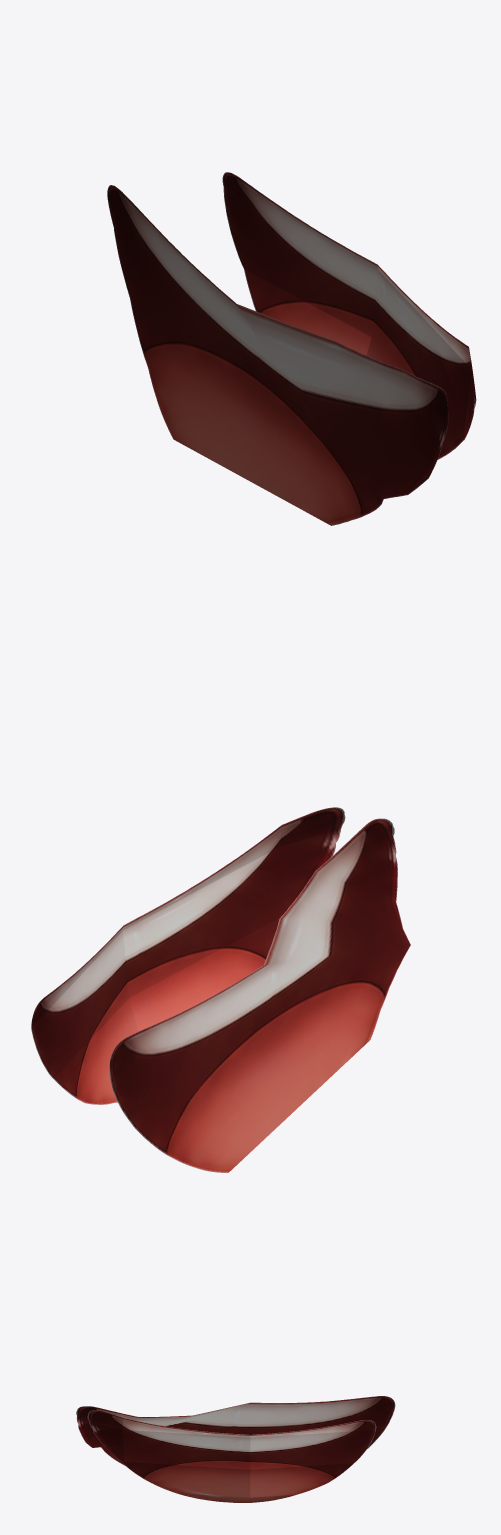
File: mouth.fbx
3 views of the same model, one above another, from view 1: azimuth 30°, elevation 25°; view 2: azimuth 150°, elevation 25°; view 3: azimuth 270°, elevation 25° (orthographic). The views are drawn at different scales.
Parts seen in each view (by area): view 1: Sphere.002; view 2: Sphere.002; view 3: Sphere.002.
Boxes of the visible parts, x1=… form: Sphere.002: x1=107, y1=172, x2=476, y2=525; Sphere.002: x1=31, y1=807, x2=410, y2=1172; Sphere.002: x1=76, y1=1396, x2=395, y2=1502.
Size of the model in its own units: 21.46 by 40.24 by 106.
Materials: 1 (1 with a texture image).
